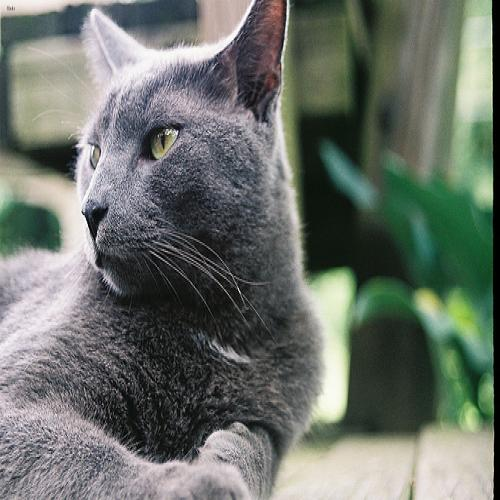rblue: (68, 1, 306, 328)
